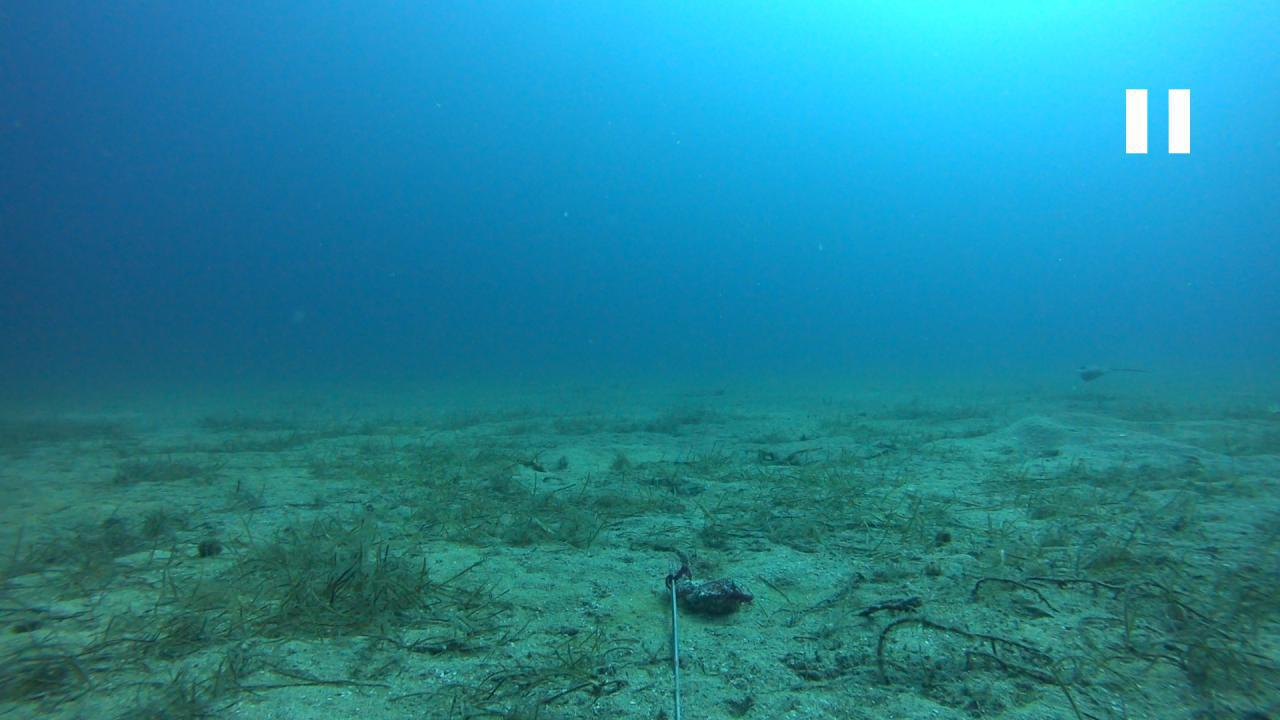dasyatis: (1074, 363, 1148, 382)
